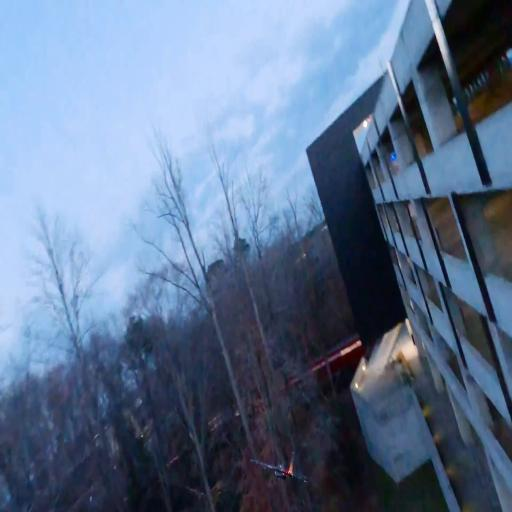uav: (246, 445, 314, 493)
